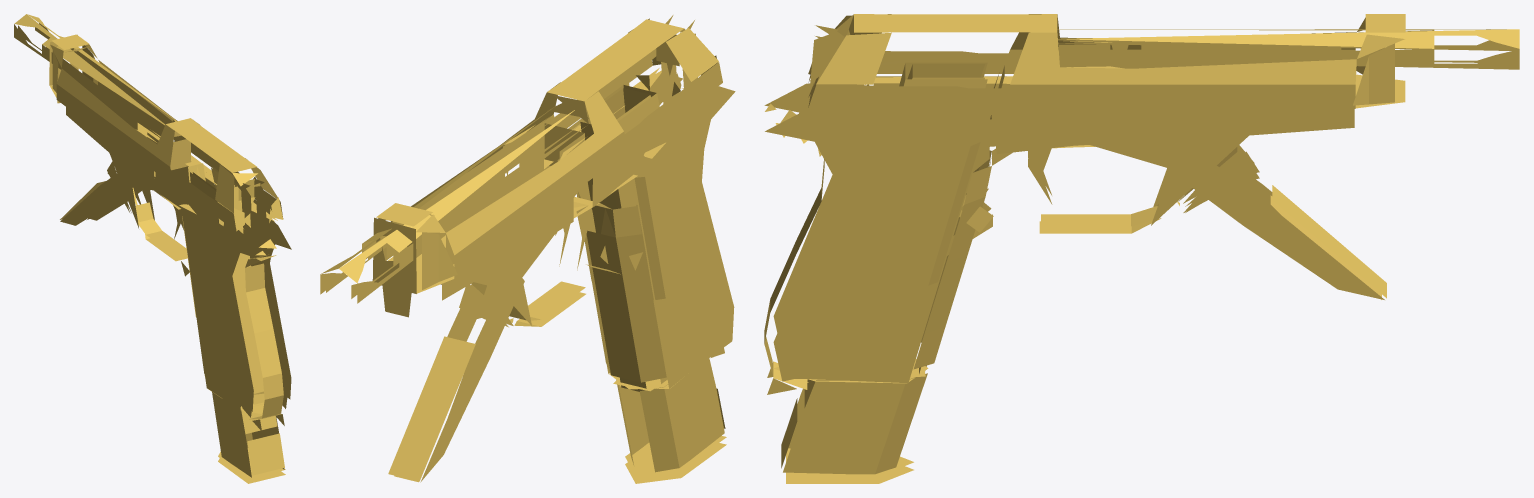
Rendered from charm_mst_pistol_4.glb.
3 views of the same model, side by side, from view 1: azimuth 30°, elevation 25°; view 2: azimuth 150°, elevation 25°; view 3: azimuth 270°, elevation 25° (orthographic). The views are drawn at different scales.
Visible parts, largest first — view 1: p0_paint; view 2: p0_paint; view 3: p0_paint.
Part boxes in pixels (x1=…): p0_paint: x1=14, y1=14, x2=291, y2=483; p0_paint: x1=320, y1=15, x2=735, y2=483; p0_paint: x1=764, y1=14, x2=1519, y2=483.
Bounding box in the file's own units: 0.03 × 0.1563 × 0.2396.
